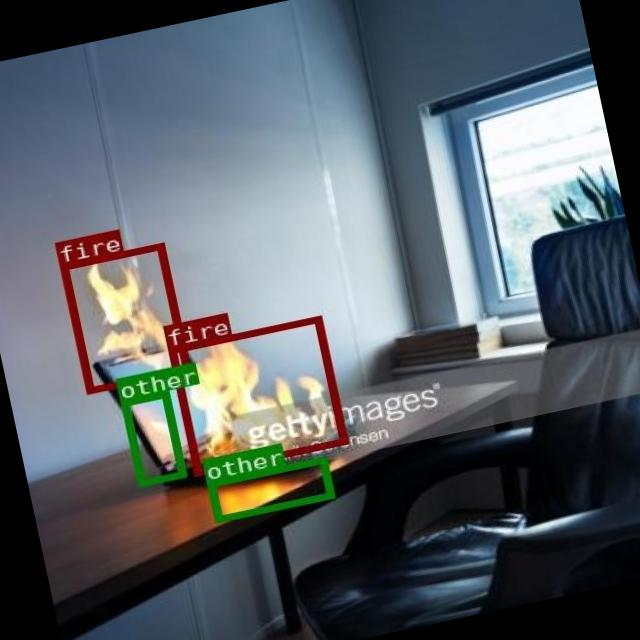fire: (166, 314, 346, 475), (58, 242, 189, 394)
